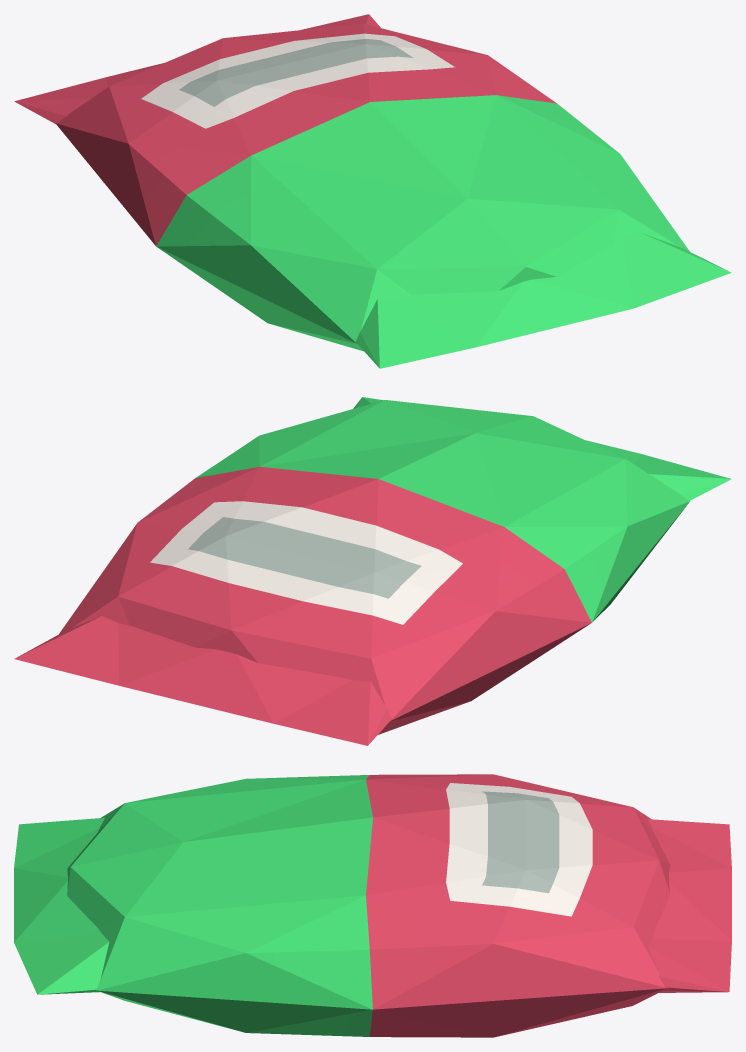
The model's file is Snack5.fbx.
3 renders of one model, top to bottom at view 1: azimuth 30°, elevation 25°; view 2: azimuth 150°, elevation 25°; view 3: azimuth 270°, elevation 25°, orthographic. The views are drawn at different scales.
Visible parts, largest first — view 1: Snack5; view 2: Snack5; view 3: Snack5.
Boxes of the visible parts, x1,y1,x2,y2 form: Snack5: (14, 14, 731, 368); Snack5: (14, 397, 731, 745); Snack5: (14, 774, 731, 1037).
Size of the model in its own units: 22.92 by 8.81 by 33.88.
